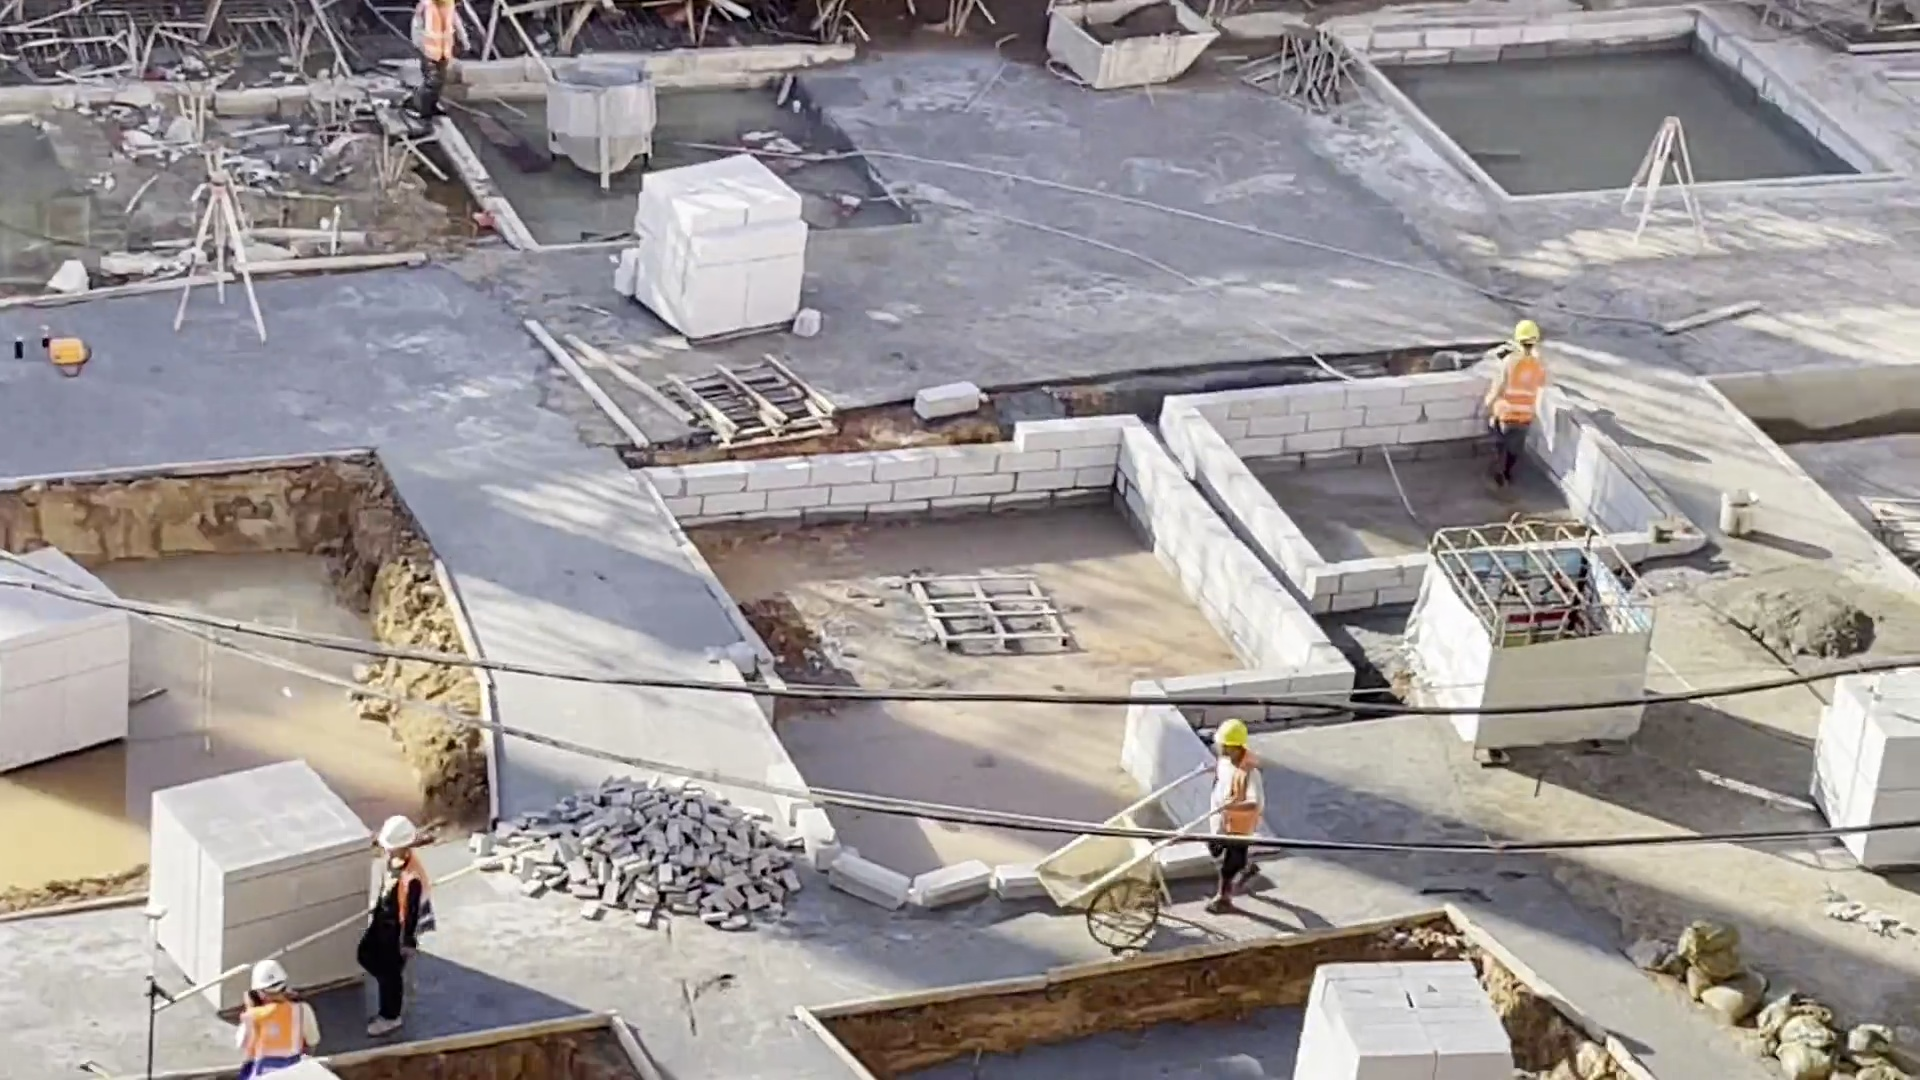brick: (139, 763, 360, 957), (630, 152, 812, 338), (1302, 953, 1516, 1080), (2, 616, 134, 782), (1823, 675, 1920, 825)
handcart: (1040, 842, 1187, 960)
helmet: (241, 957, 292, 992), (373, 814, 416, 853), (1212, 718, 1253, 747), (1510, 314, 1540, 344)
hopper: (1036, 1, 1228, 90), (544, 54, 660, 186)
person: (358, 806, 439, 1037), (1193, 716, 1267, 922), (1477, 312, 1545, 495), (229, 953, 323, 1080), (406, 2, 463, 132)
vest: (1487, 348, 1547, 423), (246, 1003, 311, 1070), (1217, 764, 1266, 840), (397, 864, 436, 936), (417, 4, 460, 63)
